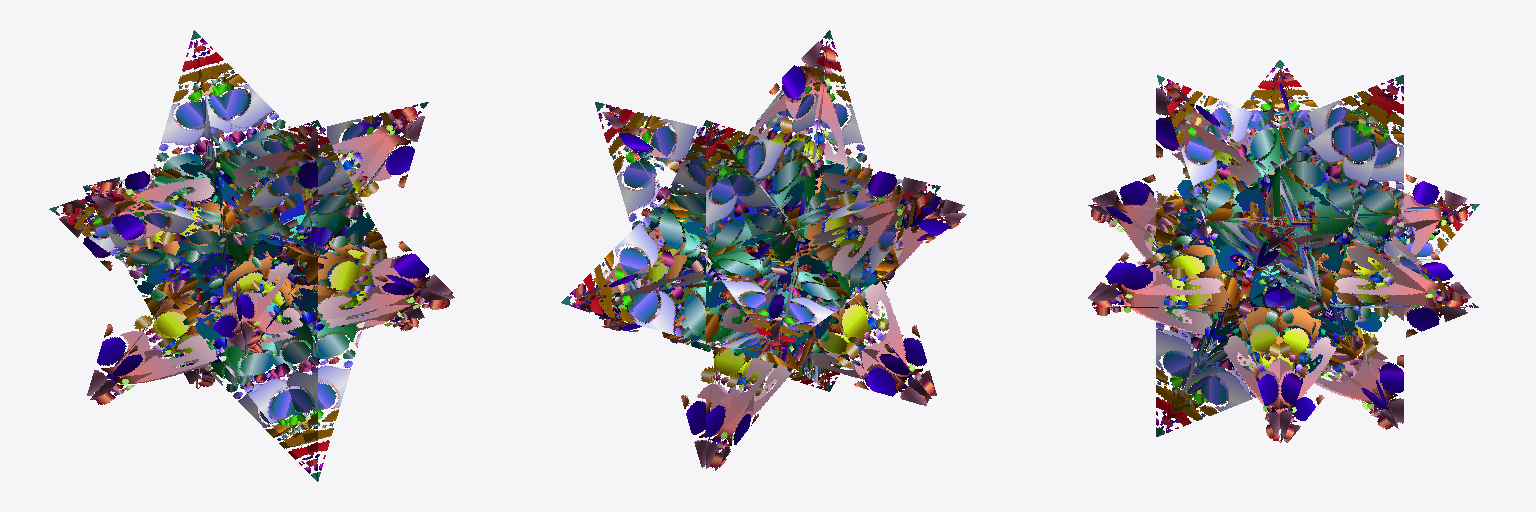
3 views of the same model, side by side, from view 1: azimuth 30°, elevation 25°; view 2: azimuth 150°, elevation 25°; view 3: azimuth 270°, elevation 25° (orthographic).
Size of the model in its own units: 1 by 1 by 1.
1 materials, 1 textured.